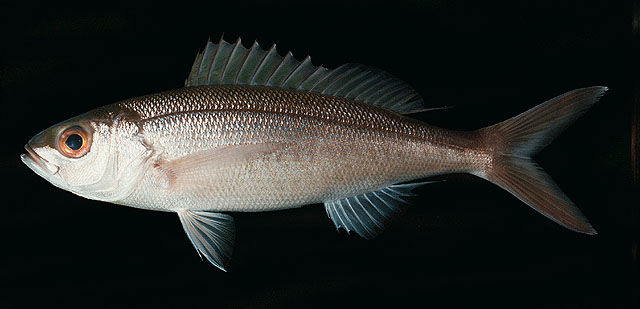fish: (20, 36, 610, 275)
